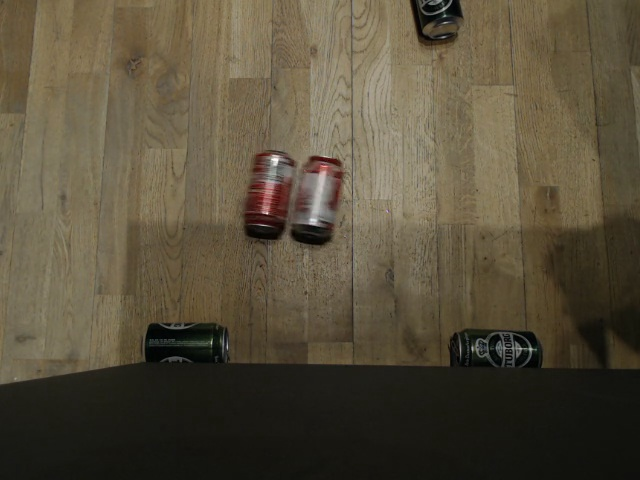beer: (289, 154, 344, 242), (136, 321, 233, 366), (410, 0, 463, 38)
cola: (448, 326, 545, 373), (243, 148, 295, 233)
